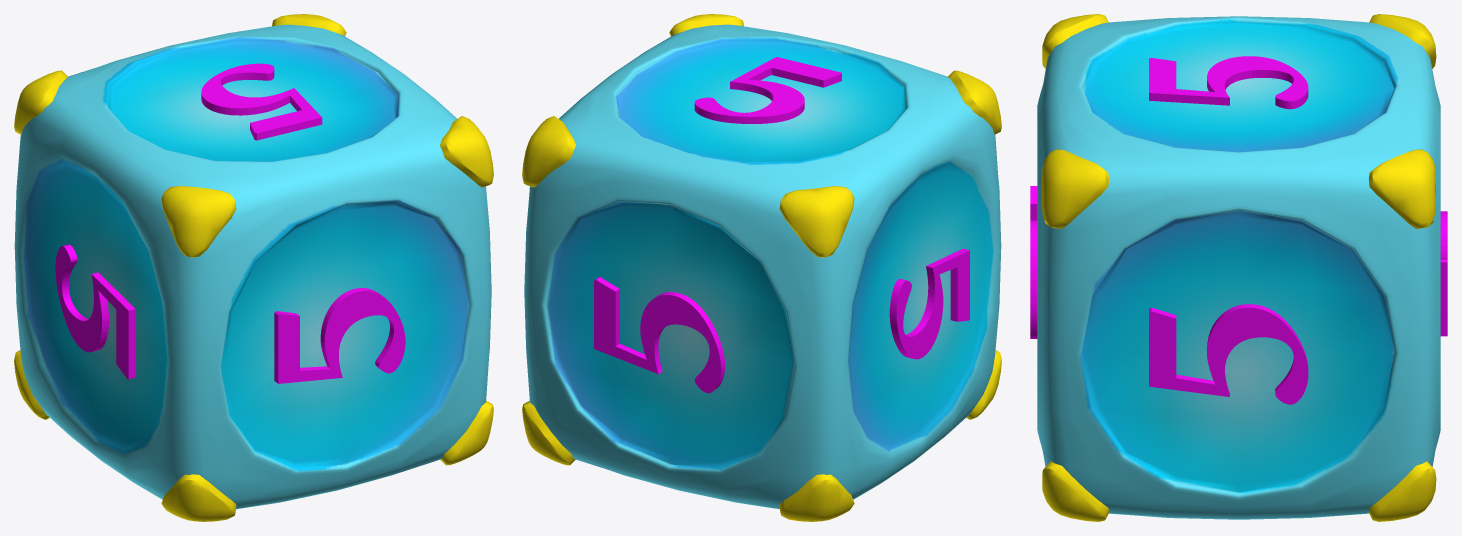
File: Dice5.fbx
3 renders of one model, left to right at view 1: azimuth 30°, elevation 25°; view 2: azimuth 150°, elevation 25°; view 3: azimuth 270°, elevation 25°, orthographic. The views are drawn at different scales.
Visible parts, largest first — view 1: Cube.002, acessery, Text6_05, Text2_05, Text3_05; view 2: Cube.002, acessery, Text5_05, Text2_05, Text3_05; view 3: Cube.002, acessery, Text4_05, Text3_05, Text6_05, Text5_05.
Part boxes in pixels (bbox=[...]): Cube.002: bbox=[14, 24, 491, 509]; acessery: bbox=[14, 14, 493, 521]; Text6_05: bbox=[274, 288, 405, 383]; Text2_05: bbox=[55, 244, 135, 379]; Text3_05: bbox=[201, 63, 322, 140]; Cube.002: bbox=[524, 24, 1001, 509]; acessery: bbox=[522, 14, 1001, 521]; Text5_05: bbox=[594, 277, 725, 393]; Text2_05: bbox=[889, 248, 969, 359]; Text3_05: bbox=[694, 57, 841, 123]; Cube.002: bbox=[1037, 16, 1440, 519]; acessery: bbox=[1041, 14, 1436, 521]; Text4_05: bbox=[1149, 304, 1308, 404]; Text3_05: bbox=[1149, 56, 1308, 109]; Text6_05: bbox=[1030, 186, 1037, 338]; Text5_05: bbox=[1440, 211, 1447, 336].
Size of the model in its own units: 203 by 203 by 203.
